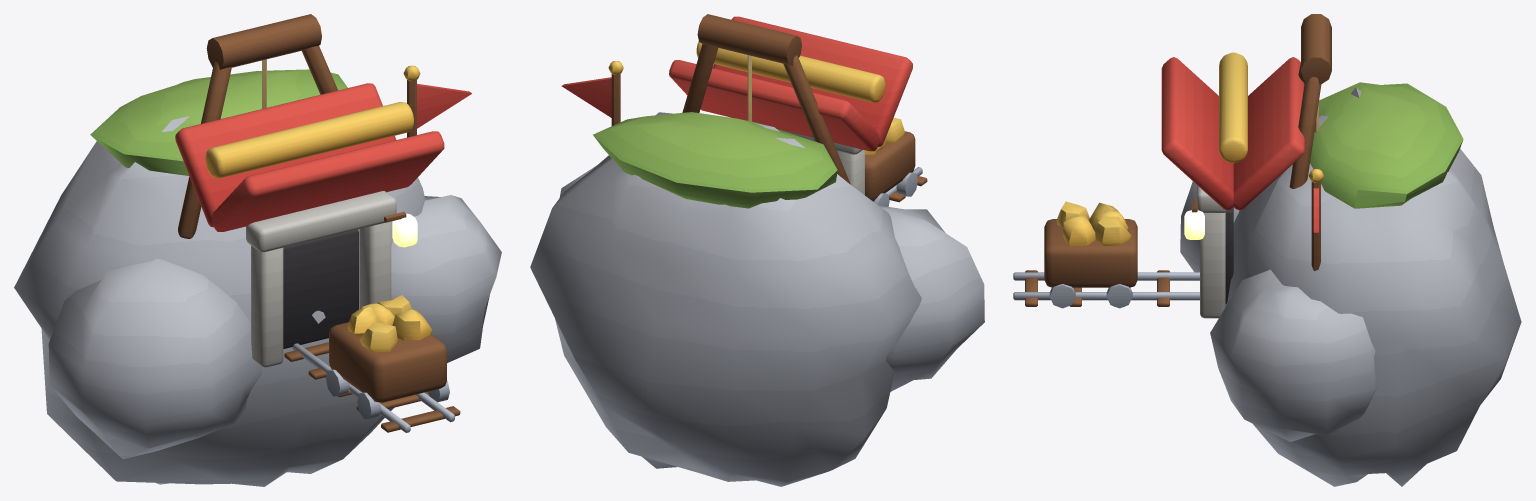
File: mineR.glb
The picture shows the model from 3 angles, left to right: view 1: azimuth 30°, elevation 25°; view 2: azimuth 150°, elevation 25°; view 3: azimuth 270°, elevation 25°; orthographic projection. The views are drawn at different scales.
Visible parts, largest first — view 1: mineR; view 2: mineR; view 3: mineR.
Boxes of the visible parts, box(x1,y1,x2,y2) form: mineR: box(14, 14, 501, 486); mineR: box(530, 14, 984, 486); mineR: box(1013, 14, 1521, 486).
Bounding box in the file's own units: 1.77 × 1.82 × 1.96.
Materials: 1 (1 with a texture image).
